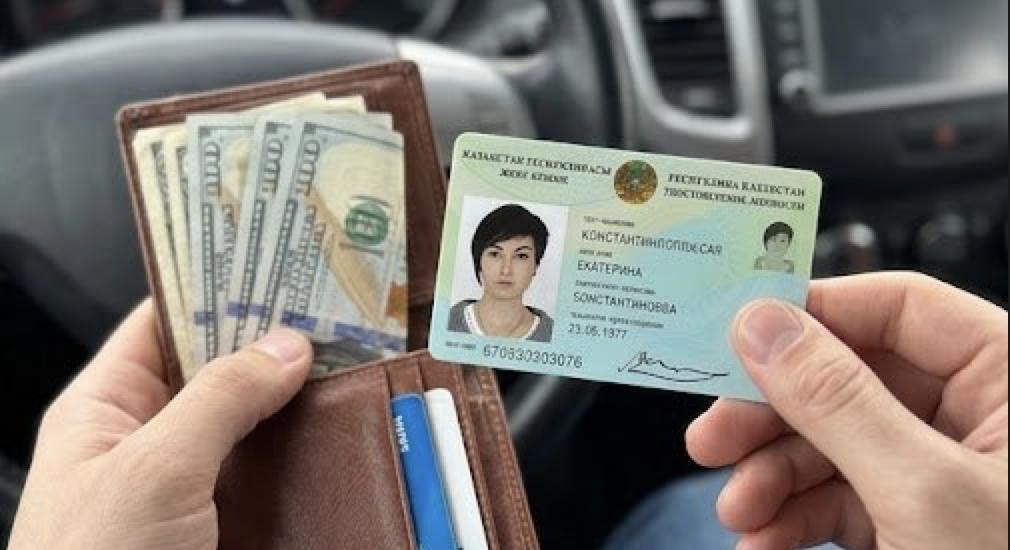cash_stack: (119, 89, 419, 377)
document: (425, 131, 822, 414)
